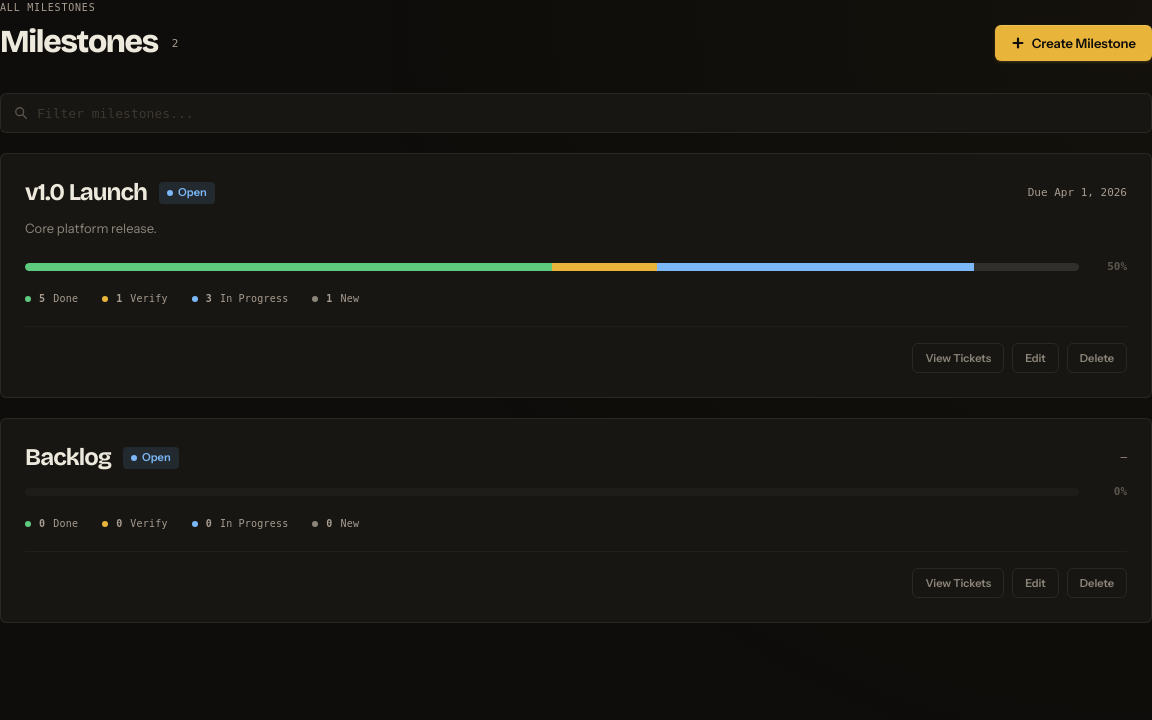
it: MilestoneListPage › admin CRUD › validates name is required on create
The image size is (1152, 720).
expect the text "v1.0 Launch" is shown: met, box top-left (25, 178), bottom-right (147, 207)
Click the button "Create Milestone" at (1073, 43), box top-left (995, 25), bottom-right (1151, 61)
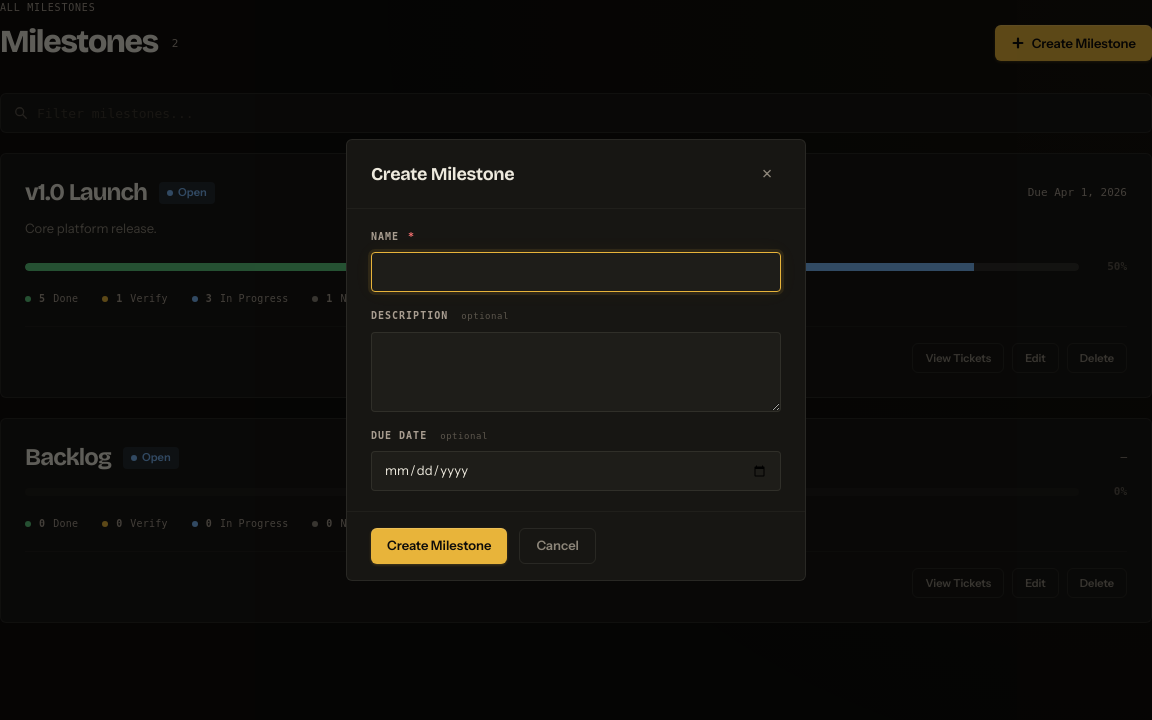
Click the button "Create Milestone" at (439, 546), box top-left (371, 528), bottom-right (507, 564)
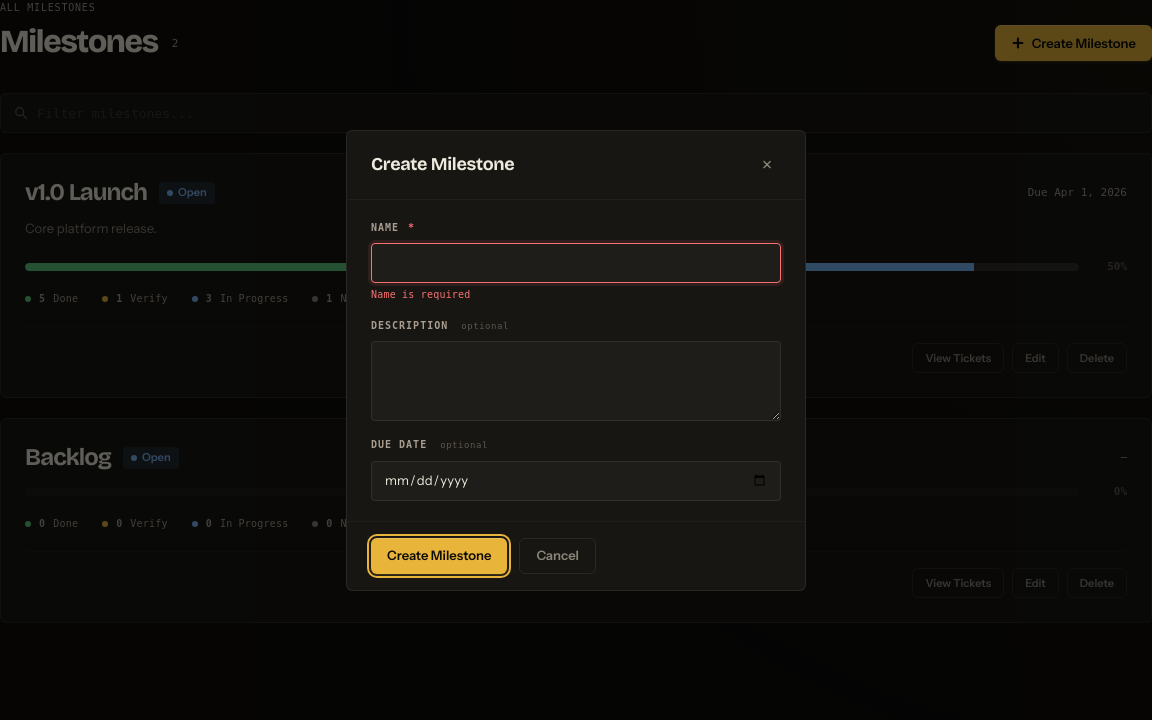
expect the text "Name is required" is shown: met, box top-left (371, 288), bottom-right (470, 300)
